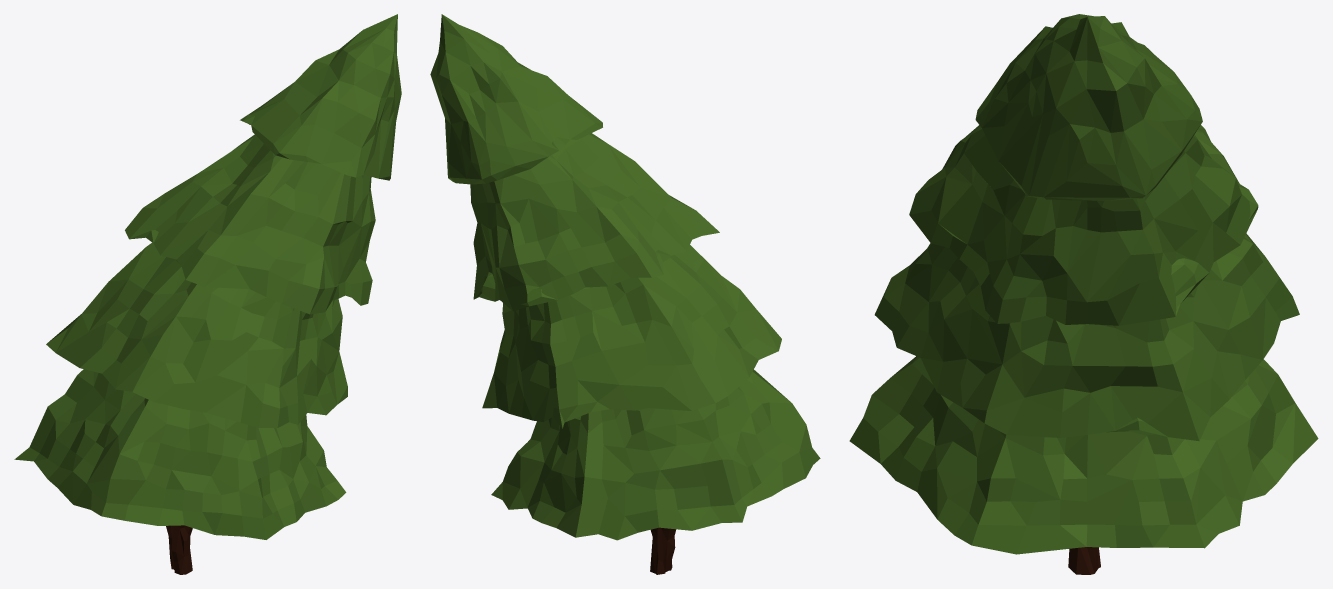
File: Arbol 1.fbx
3 views of the same model, side by side, from view 1: azimuth 30°, elevation 25°; view 2: azimuth 150°, elevation 25°; view 3: azimuth 270°, elevation 25° (orthographic). The views are drawn at different scales.
Parts seen in each view (by area): view 1: Arbol 1_LOD0; view 2: Arbol 1_LOD0; view 3: Arbol 1_LOD0.
Boxes of the visible parts, box(x1,y1,x2,y2) form: Arbol 1_LOD0: box(14, 14, 401, 574); Arbol 1_LOD0: box(430, 14, 820, 574); Arbol 1_LOD0: box(849, 14, 1318, 574).
Size of what is drawn, in the model's own units: 229 by 319 by 193.
